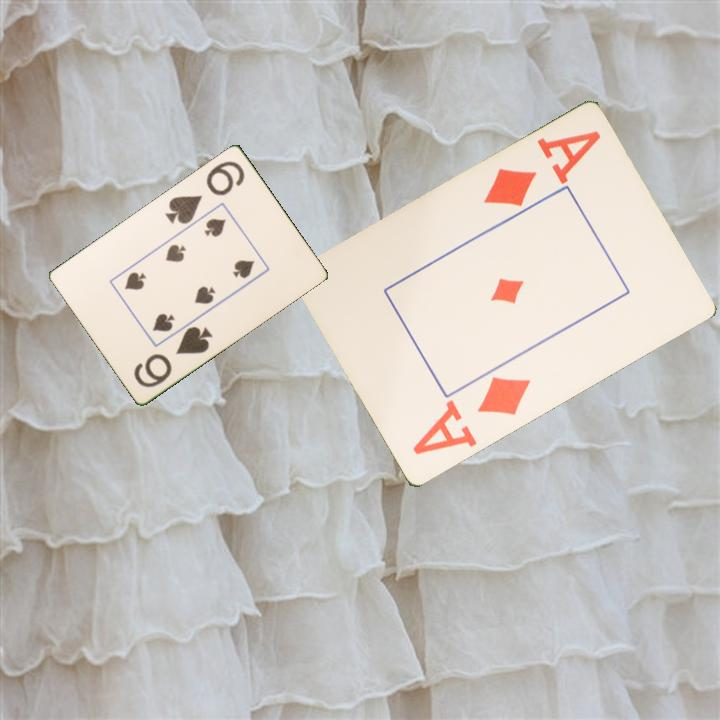6s: (162, 157, 248, 227), (130, 322, 216, 390)
Ad: (408, 373, 533, 459), (480, 127, 604, 210)
